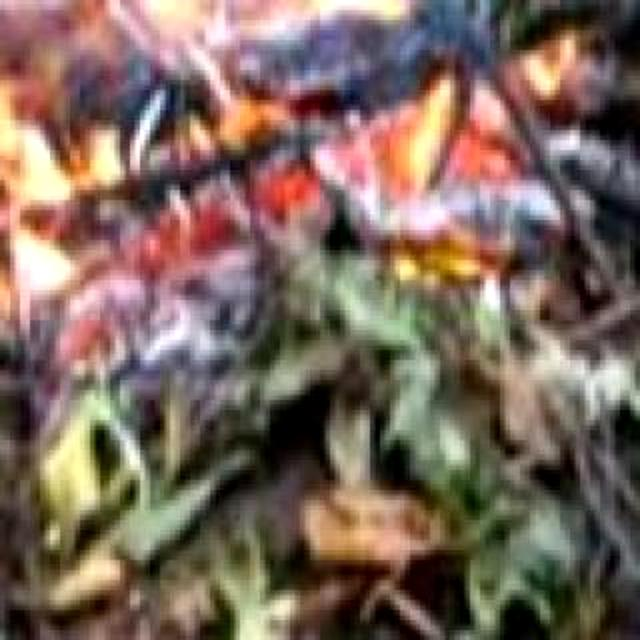fire: (80, 0, 431, 175), (255, 40, 550, 220), (502, 25, 602, 121)
